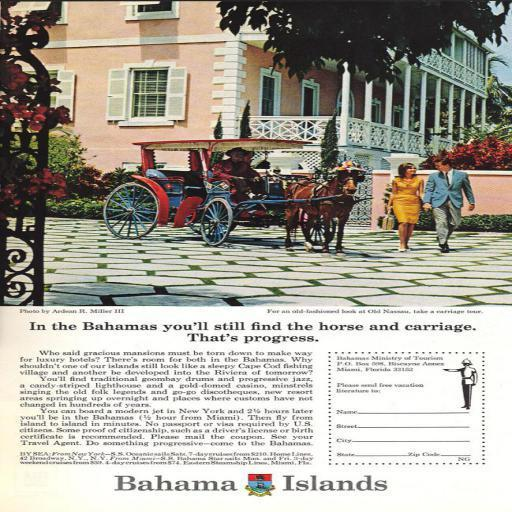horse: (283, 164, 365, 258)
